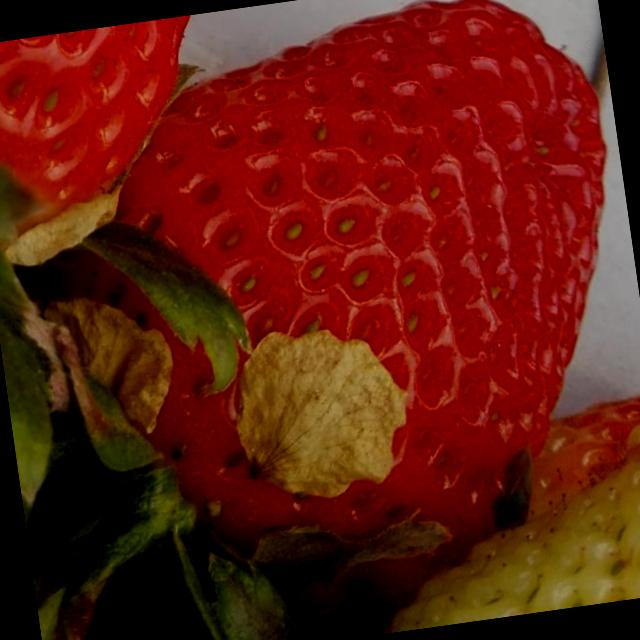Strawberry: (13, 0, 640, 640), (357, 432, 640, 635), (0, 16, 217, 241)
